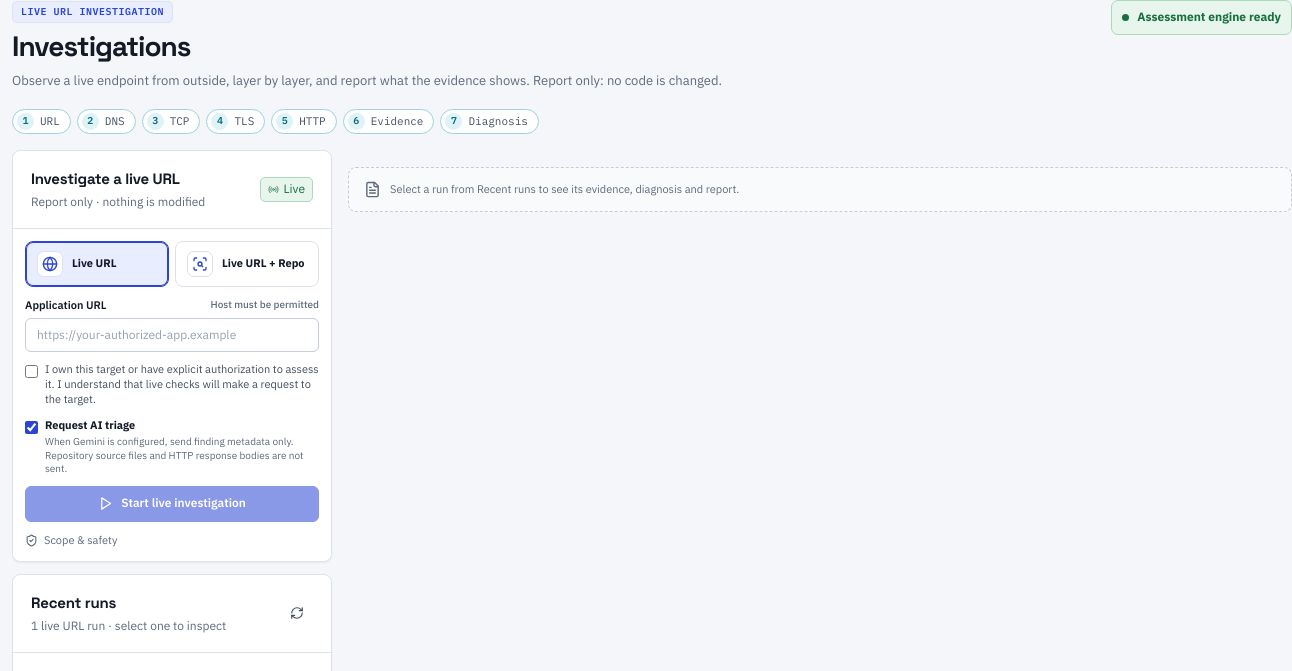
Code and Live URL are separate experiences › the Live URL page holds Live URL and Live URL + Repo only: its own workflow, no repository source and no code runs
Expected: the text "Live URL investigation" is shown, [12,1,173,22]
Expected: the heading "Investigations" is shown, [12,28,191,64]
Click the button "Live URL + Repo" at (247, 264), box [175,240,319,286]
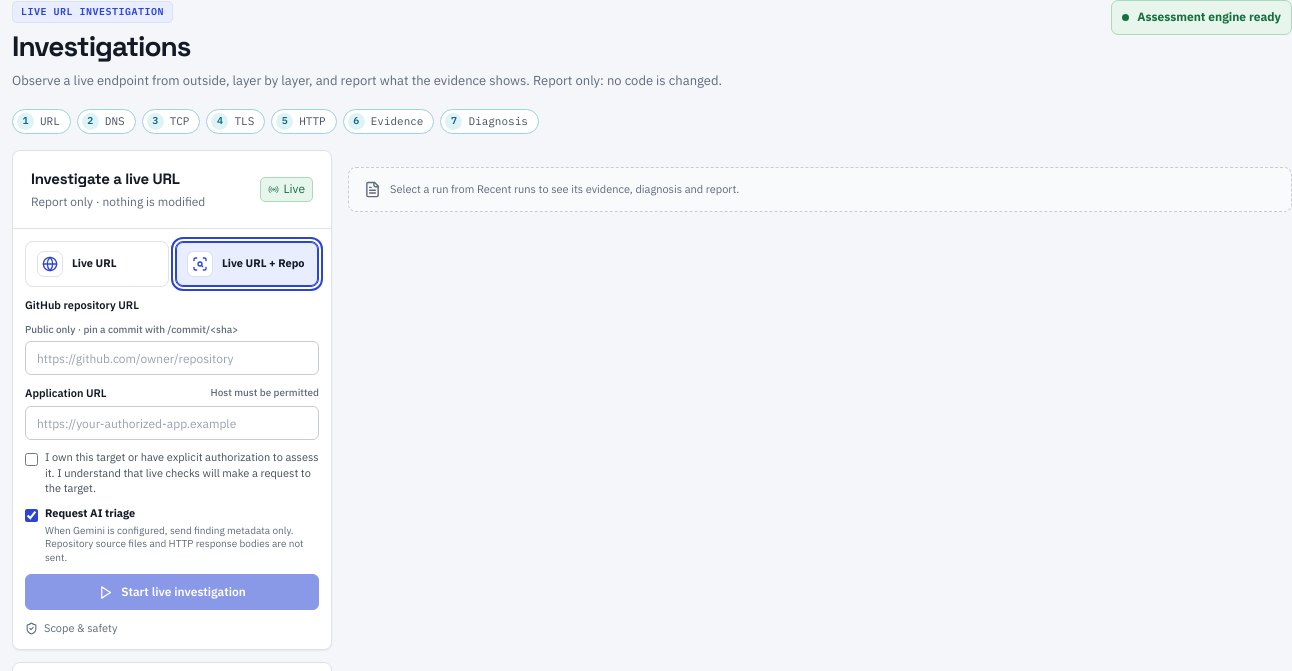
Expected: the field with placeholder "https://your-authorized-app.example" is shown, [25,406,319,440]
Expected: the field with placeholder "https://github.com/owner/repository" is shown, [25,341,319,375]
